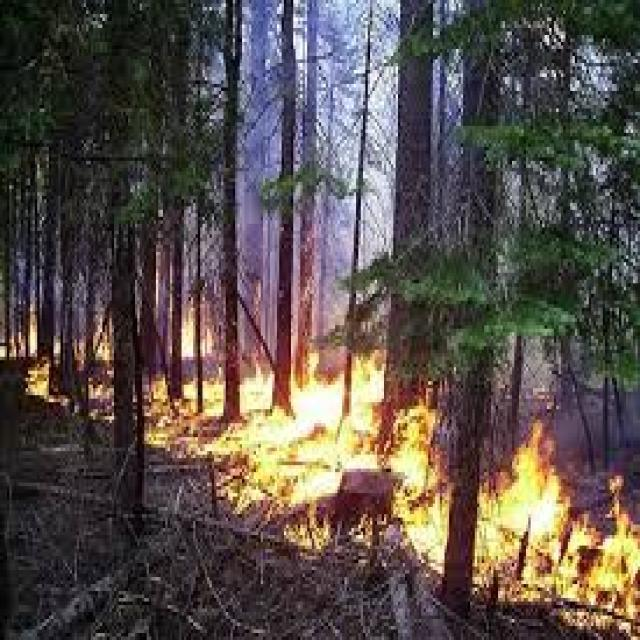Fire: (390, 390, 640, 634), (134, 372, 392, 560), (0, 285, 120, 428), (154, 268, 227, 362), (296, 327, 390, 376)
